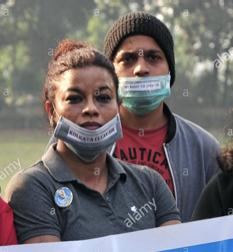Wore Mask Incorrectly: (49, 65, 126, 159), (111, 28, 182, 109)
